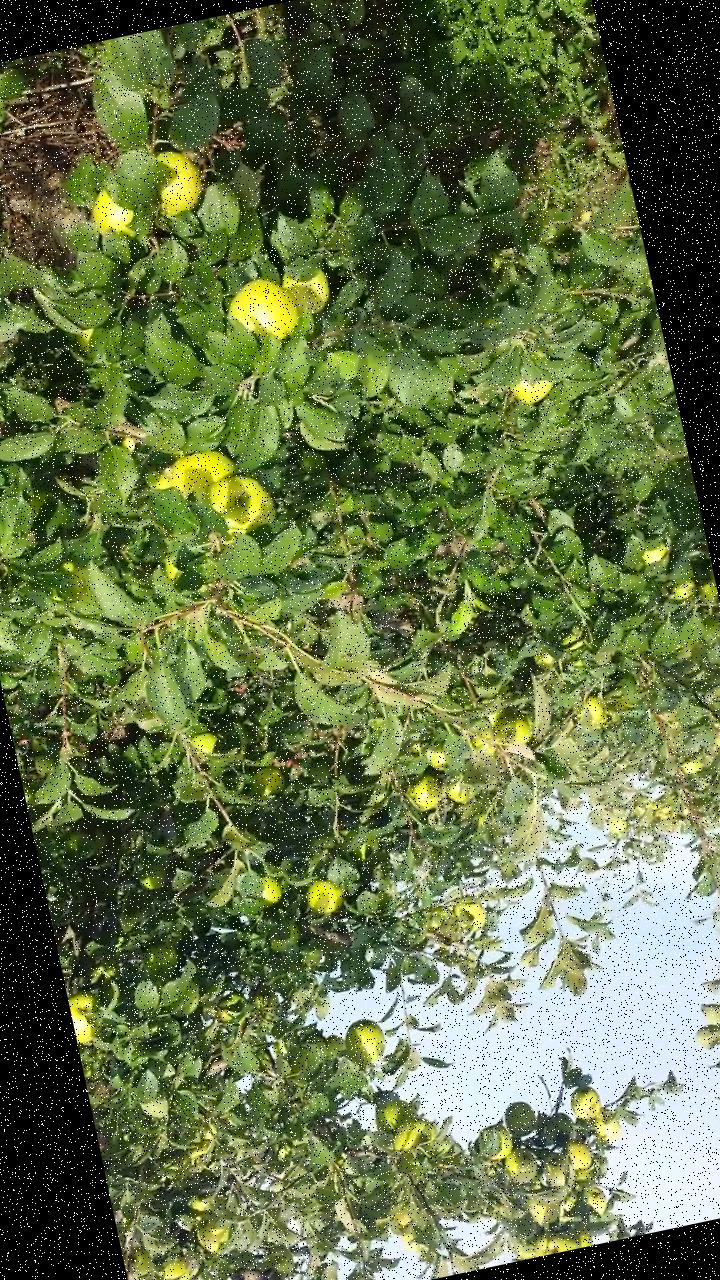Apple: (214, 274, 307, 359), (194, 470, 280, 550), (166, 446, 243, 508), (152, 144, 210, 222), (502, 342, 564, 410), (91, 184, 142, 248), (281, 264, 335, 319), (340, 1012, 390, 1069), (191, 1206, 240, 1258), (70, 989, 112, 1047), (304, 874, 354, 922), (388, 1114, 443, 1156), (136, 938, 185, 984), (498, 1142, 544, 1190), (450, 892, 493, 938), (373, 1096, 422, 1134), (491, 710, 537, 750), (588, 1105, 628, 1149), (474, 1122, 518, 1162), (538, 1148, 577, 1192), (260, 1240, 302, 1279), (246, 762, 288, 801), (526, 1188, 567, 1227), (569, 1084, 607, 1126), (408, 774, 446, 814), (266, 920, 307, 956), (544, 1108, 580, 1148), (188, 727, 230, 761), (637, 534, 676, 570), (503, 1100, 538, 1140), (578, 690, 614, 728), (565, 1136, 599, 1174), (154, 1250, 198, 1279), (577, 1185, 611, 1221), (138, 862, 176, 894), (74, 324, 105, 363), (470, 724, 503, 760), (423, 738, 454, 776), (126, 1246, 159, 1280), (142, 462, 174, 496), (544, 1226, 582, 1254), (258, 874, 286, 910), (442, 776, 473, 808), (322, 1032, 352, 1062), (0, 496, 12, 570), (668, 578, 702, 604), (305, 761, 336, 788), (556, 630, 588, 655), (569, 1168, 600, 1192), (482, 706, 512, 729), (298, 946, 328, 968), (680, 756, 708, 779), (696, 581, 719, 608), (532, 1230, 554, 1256), (532, 651, 558, 673), (162, 556, 182, 583), (574, 1223, 596, 1247), (189, 1192, 211, 1212), (608, 814, 629, 834)
